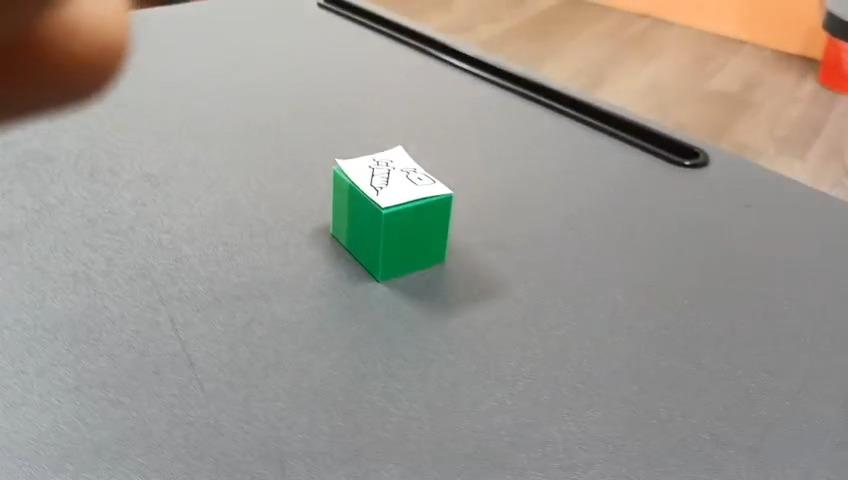antiseptic cream: (328, 143, 454, 283)
